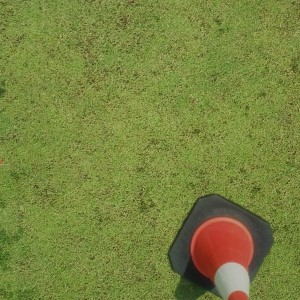traffic cone: (168, 194, 274, 300)
